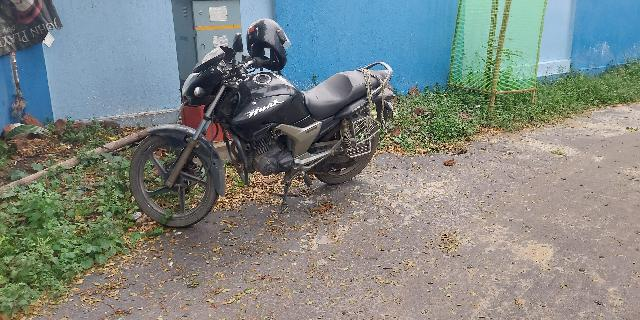Motorbike: (118, 16, 402, 225)
